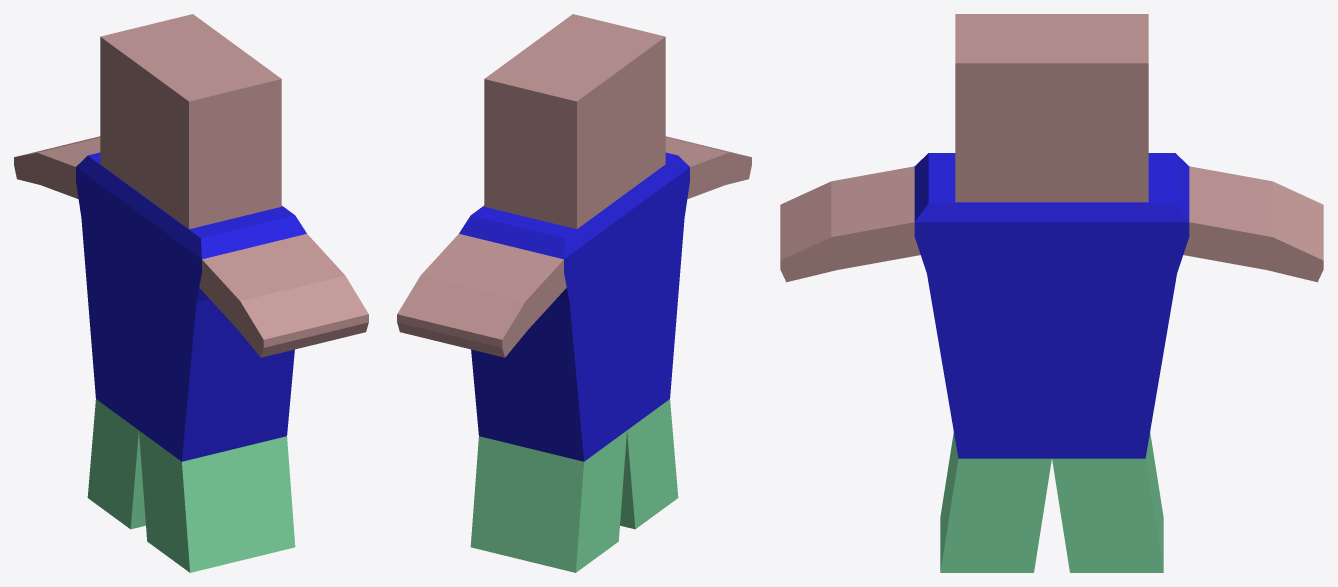
File: Villager.fbx
3 views of the same model, side by side, from view 1: azimuth 30°, elevation 25°; view 2: azimuth 150°, elevation 25°; view 3: azimuth 270°, elevation 25° (orthographic). The views are drawn at different scales.
Parts seen in each view (by area): view 1: Cube; view 2: Cube; view 3: Cube.
Boxes of the visible parts, left/top/right/bottom form: Cube: left=14, top=14, right=368, bottom=572; Cube: left=397, top=14, right=751, bottom=572; Cube: left=780, top=14, right=1323, bottom=572.
Size of the model in its own units: 129 by 546 by 532.
